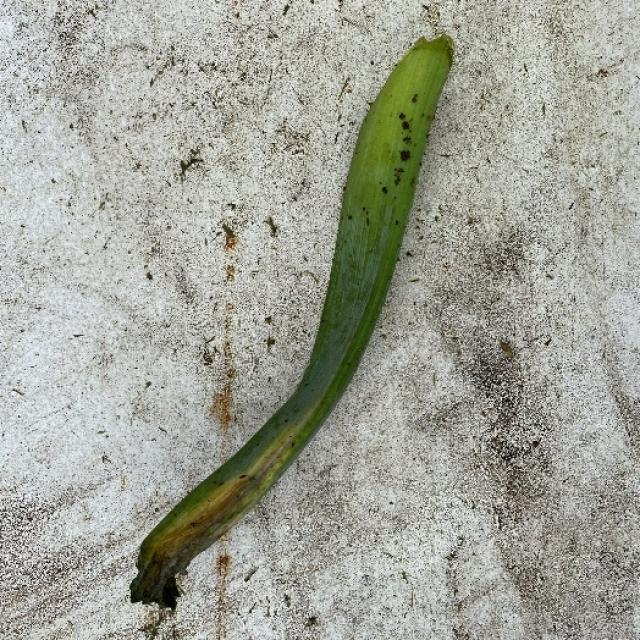organik: (130, 37, 451, 603)
